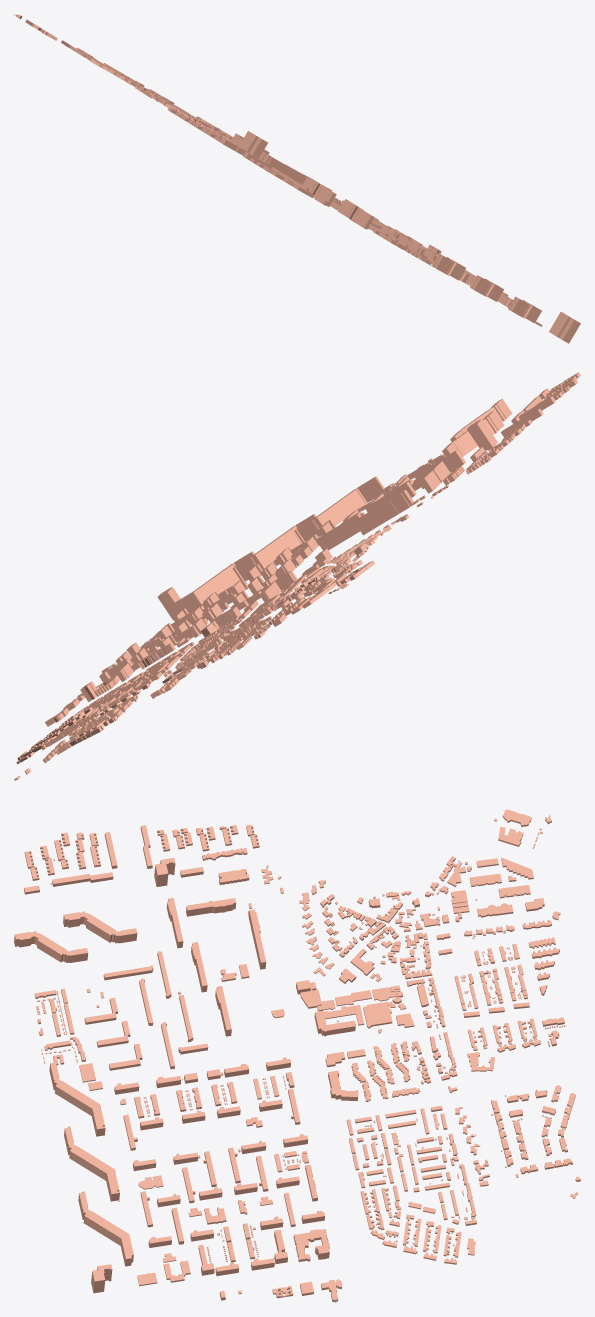
3 views of the same model, one above another, from view 1: azimuth 30°, elevation 25°; view 2: azimuth 150°, elevation 25°; view 3: azimuth 270°, elevation 25° (orthographic). The views are drawn at different scales.
Size of the model in its own units: 1048 by 768 by 1285.
